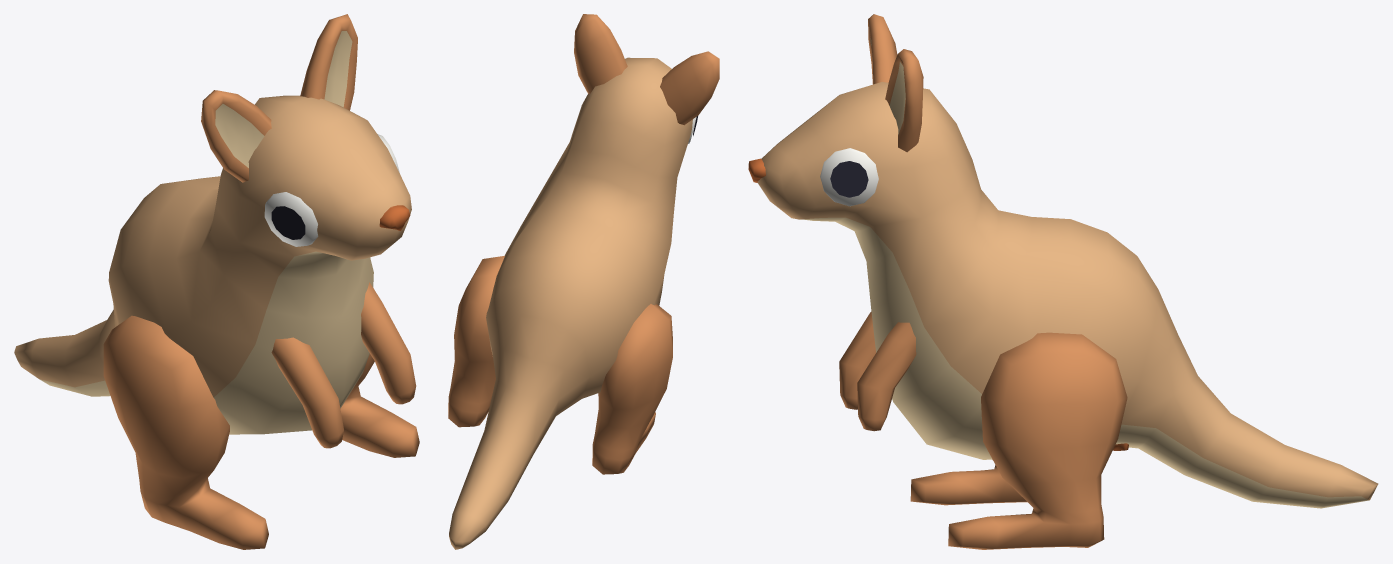
The picture shows the model from 3 angles, left to right: view 1: azimuth 30°, elevation 25°; view 2: azimuth 150°, elevation 25°; view 3: azimuth 270°, elevation 25°; orthographic projection. The views are drawn at different scales.
Visible parts, largest first — view 1: Kangaroo_LOD1_Mat_Kangaroo_0; view 2: Kangaroo_LOD1_Mat_Kangaroo_0; view 3: Kangaroo_LOD1_Mat_Kangaroo_0.
Part boxes in pixels (x1,y1,x2,y2): Kangaroo_LOD1_Mat_Kangaroo_0: (14,14,419,549); Kangaroo_LOD1_Mat_Kangaroo_0: (448,14,719,549); Kangaroo_LOD1_Mat_Kangaroo_0: (748,14,1378,549).
Bounding box in the file's own units: 1.98 × 3.76 × 4.33.
